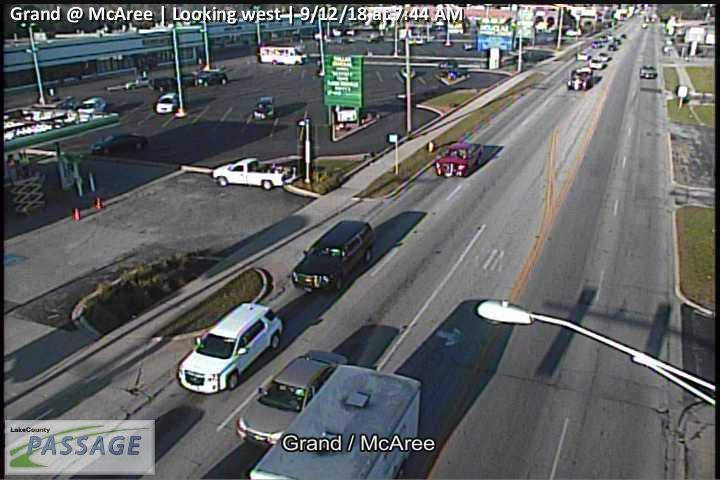Bus: (259, 46, 307, 65)
SUV: (178, 300, 283, 395), (288, 220, 377, 293)
Sedan: (236, 350, 348, 443), (567, 68, 593, 92), (194, 70, 226, 86), (155, 92, 178, 113), (253, 98, 274, 120), (639, 64, 657, 80), (588, 58, 604, 69), (576, 51, 590, 60), (597, 52, 611, 61), (605, 42, 616, 50), (591, 41, 601, 48)
Truck: (245, 365, 421, 480), (211, 157, 294, 188), (435, 141, 483, 176)
